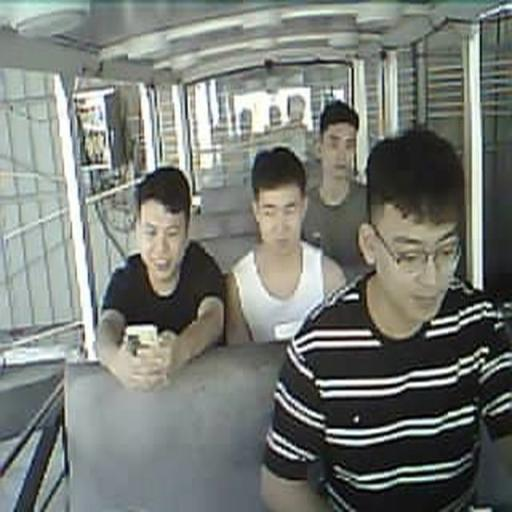persona: (258, 127, 512, 511), (96, 165, 226, 392), (224, 145, 347, 346), (300, 99, 374, 283)
